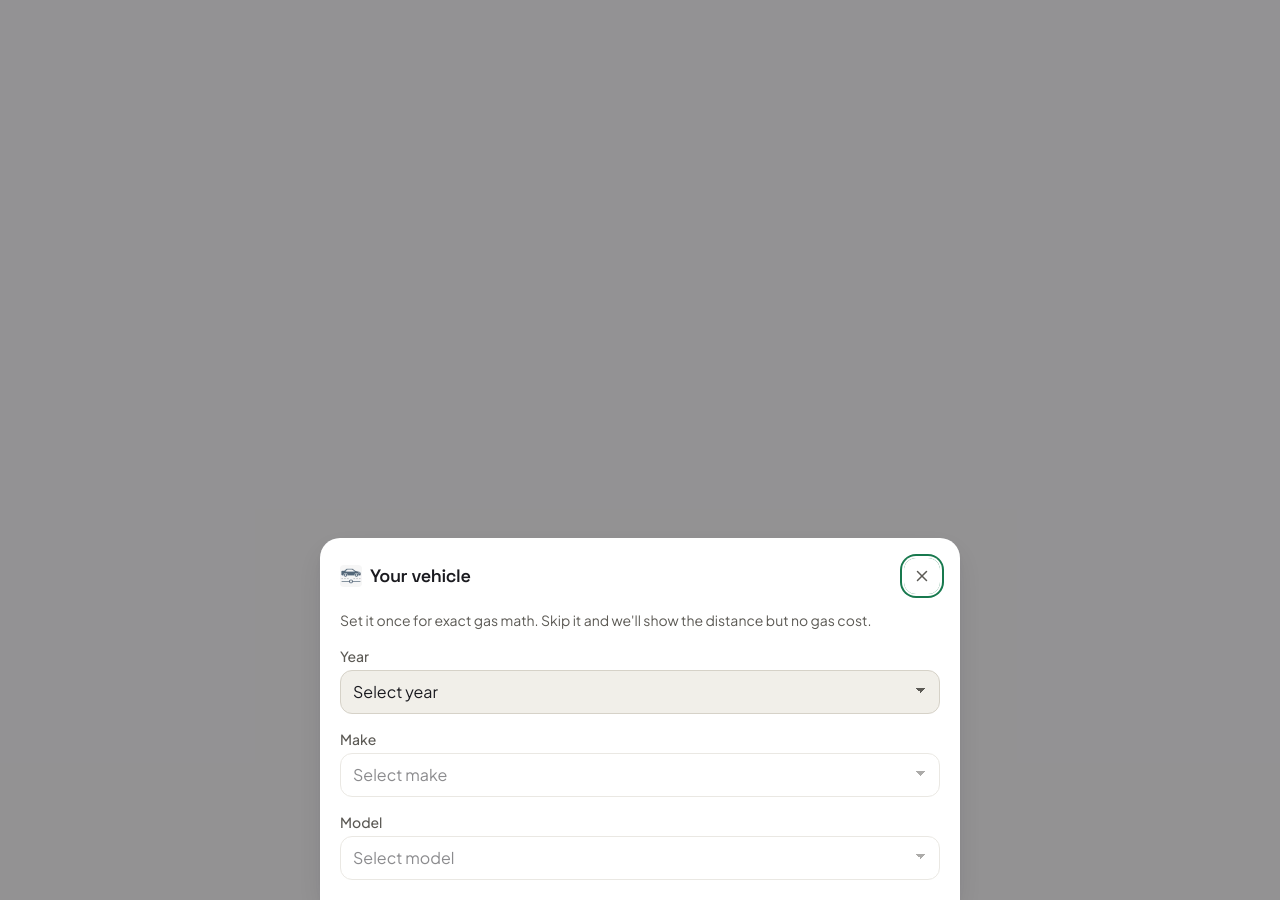
VehicleSelector (bottom sheet) › clears a stale error when the sheet is reopened
Select "2019" in the dropdown labelled "Year" at {"x": 640, "y": 692}, box x1=340 y1=670 x2=940 y2=714
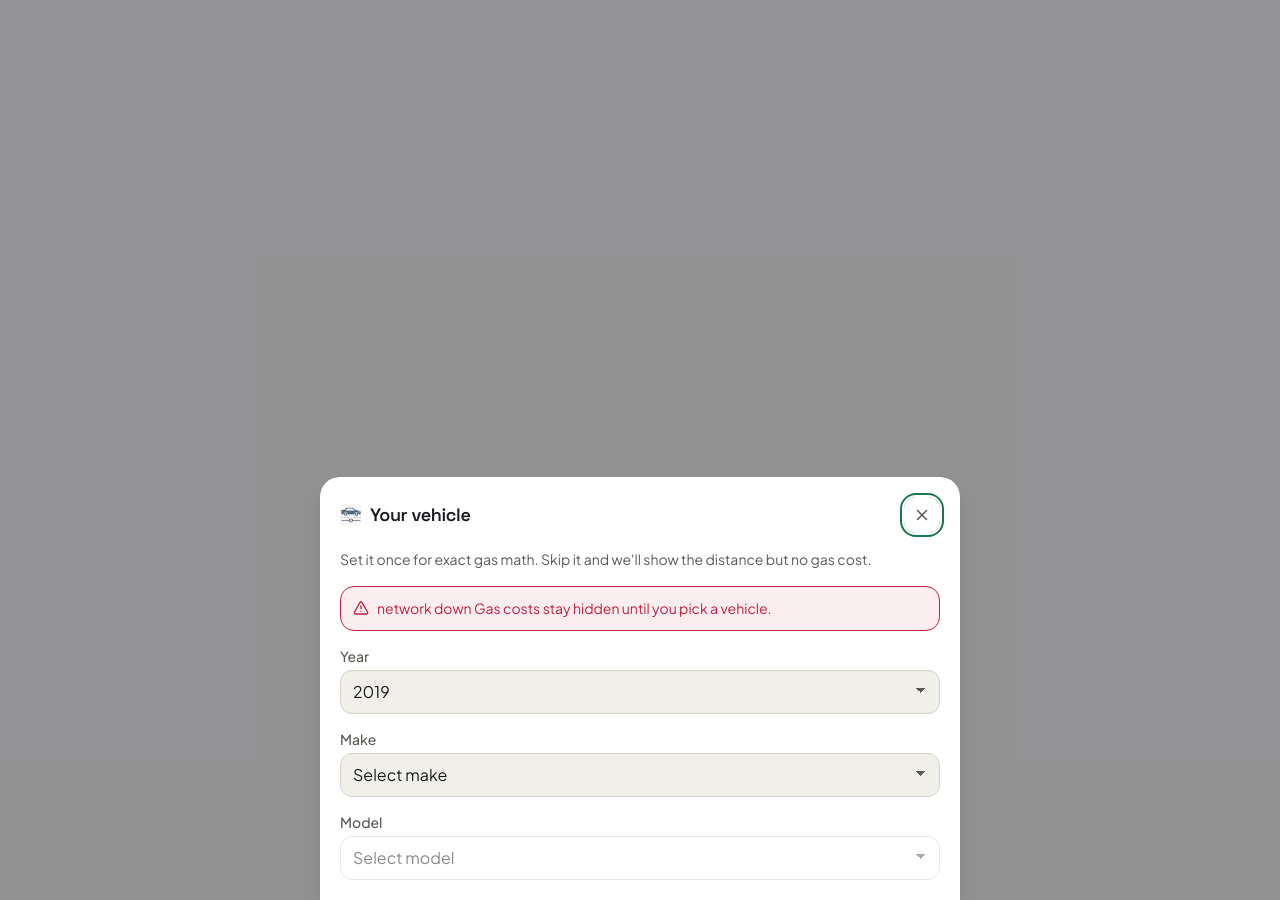
Now the message "network down Gas costs stay hidden until you pick a vehicle." is shown, box x1=340 y1=586 x2=940 y2=631
